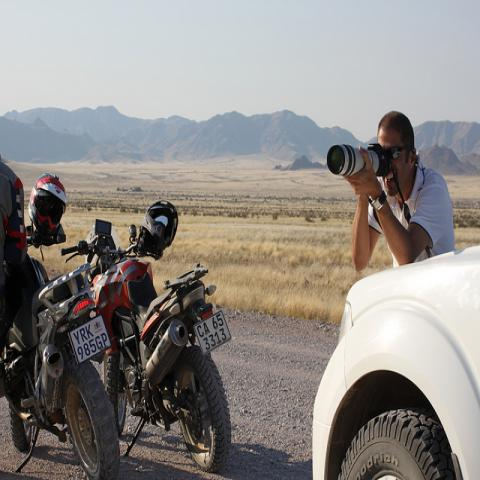car: (311, 246, 479, 474)
motorcycle: (63, 220, 233, 475), (2, 256, 119, 472)
